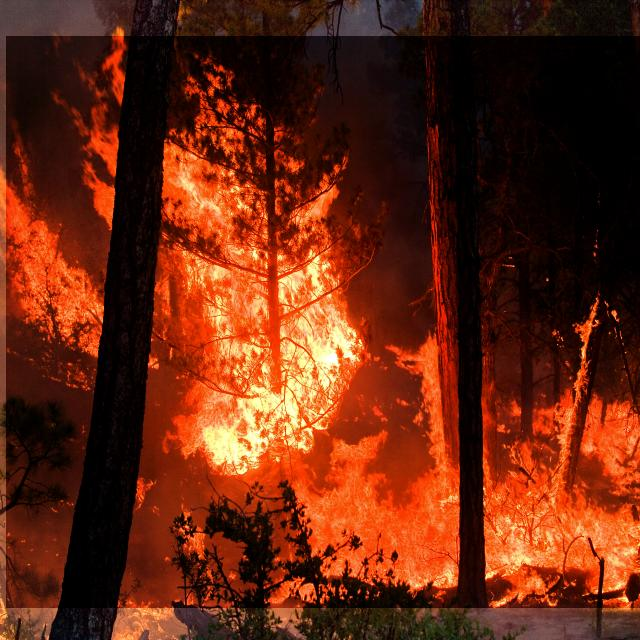Fire: (6, 36, 640, 608)
